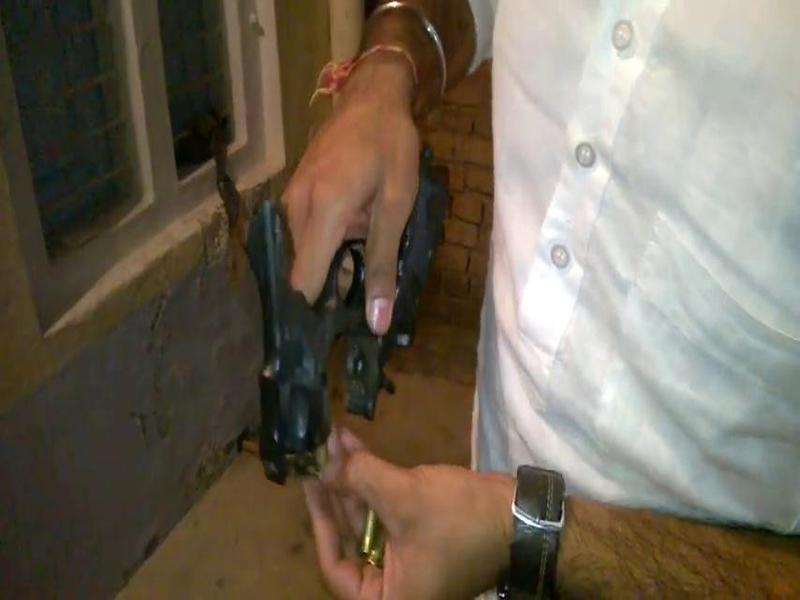Revolver: (233, 104, 461, 499)
